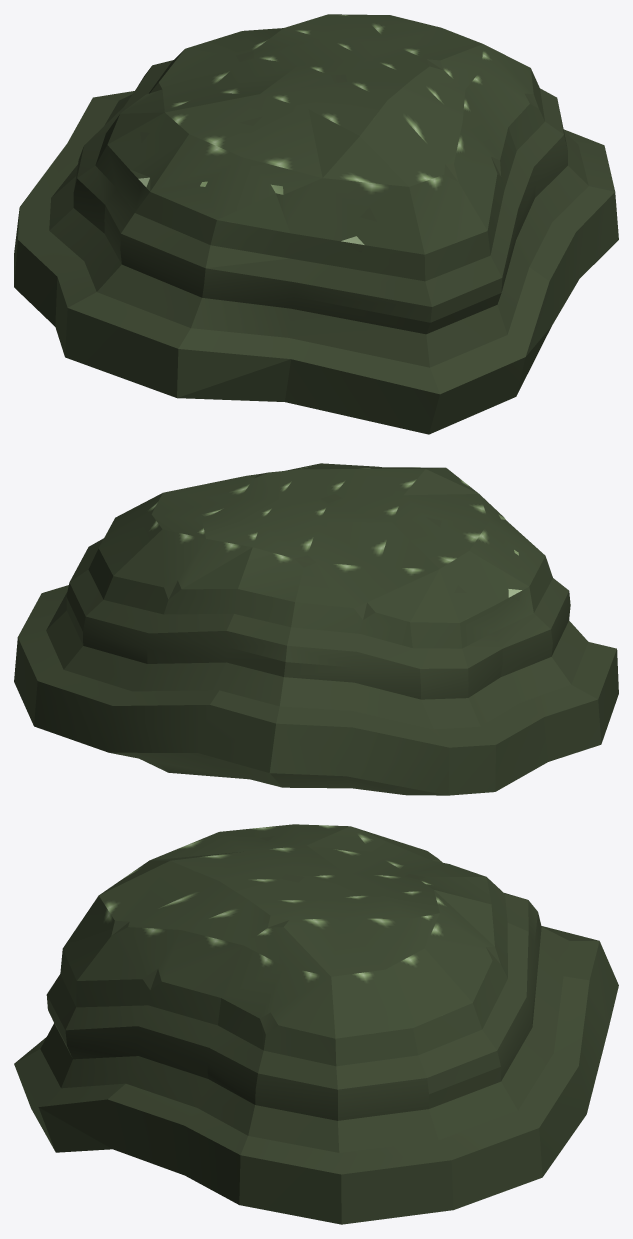
File: EA_Swamp_Fungus_01a.glb
3 renders of one model, top to bottom at view 1: azimuth 30°, elevation 25°; view 2: azimuth 150°, elevation 25°; view 3: azimuth 270°, elevation 25°, orthographic. The views are drawn at different scales.
Parts seen in each view (by area): view 1: EA_Swamp_Fungus_01a; view 2: EA_Swamp_Fungus_01a; view 3: EA_Swamp_Fungus_01a.
Boxes of the visible parts, left/top/right/bottom form: EA_Swamp_Fungus_01a: left=14, top=14, right=618, bottom=434; EA_Swamp_Fungus_01a: left=14, top=463, right=618, bottom=795; EA_Swamp_Fungus_01a: left=14, top=824, right=618, bottom=1224.
Bounding box in the file's own units: 1.31 × 0.5667 × 1.19.
1 material, 1 textured.
